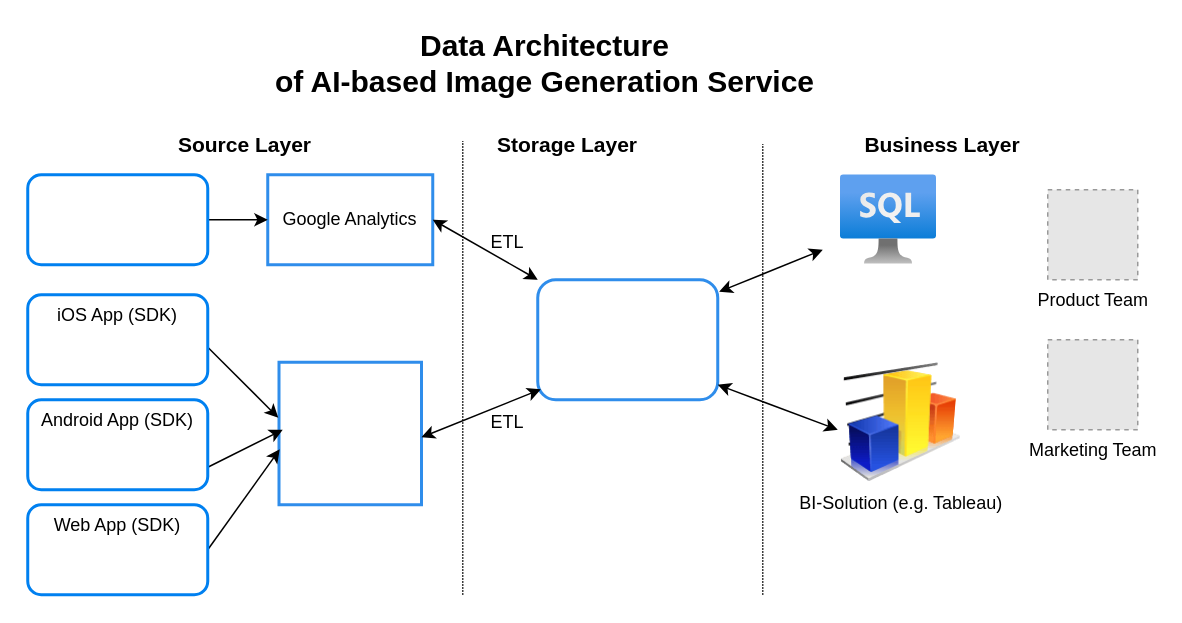
Image size: 1182x623. Some labels were removed from this diagram. Grey dashed boxes stand in for pictures. The centre of each missing label's shape, as x and y in pixels:
Amplitude/ Mixpanel: pixel 349 433
Data Warehouse: pixel 627 339
Landing Page (GA Tracking): pixel 117 219
SQL Queries: pixel 888 219
